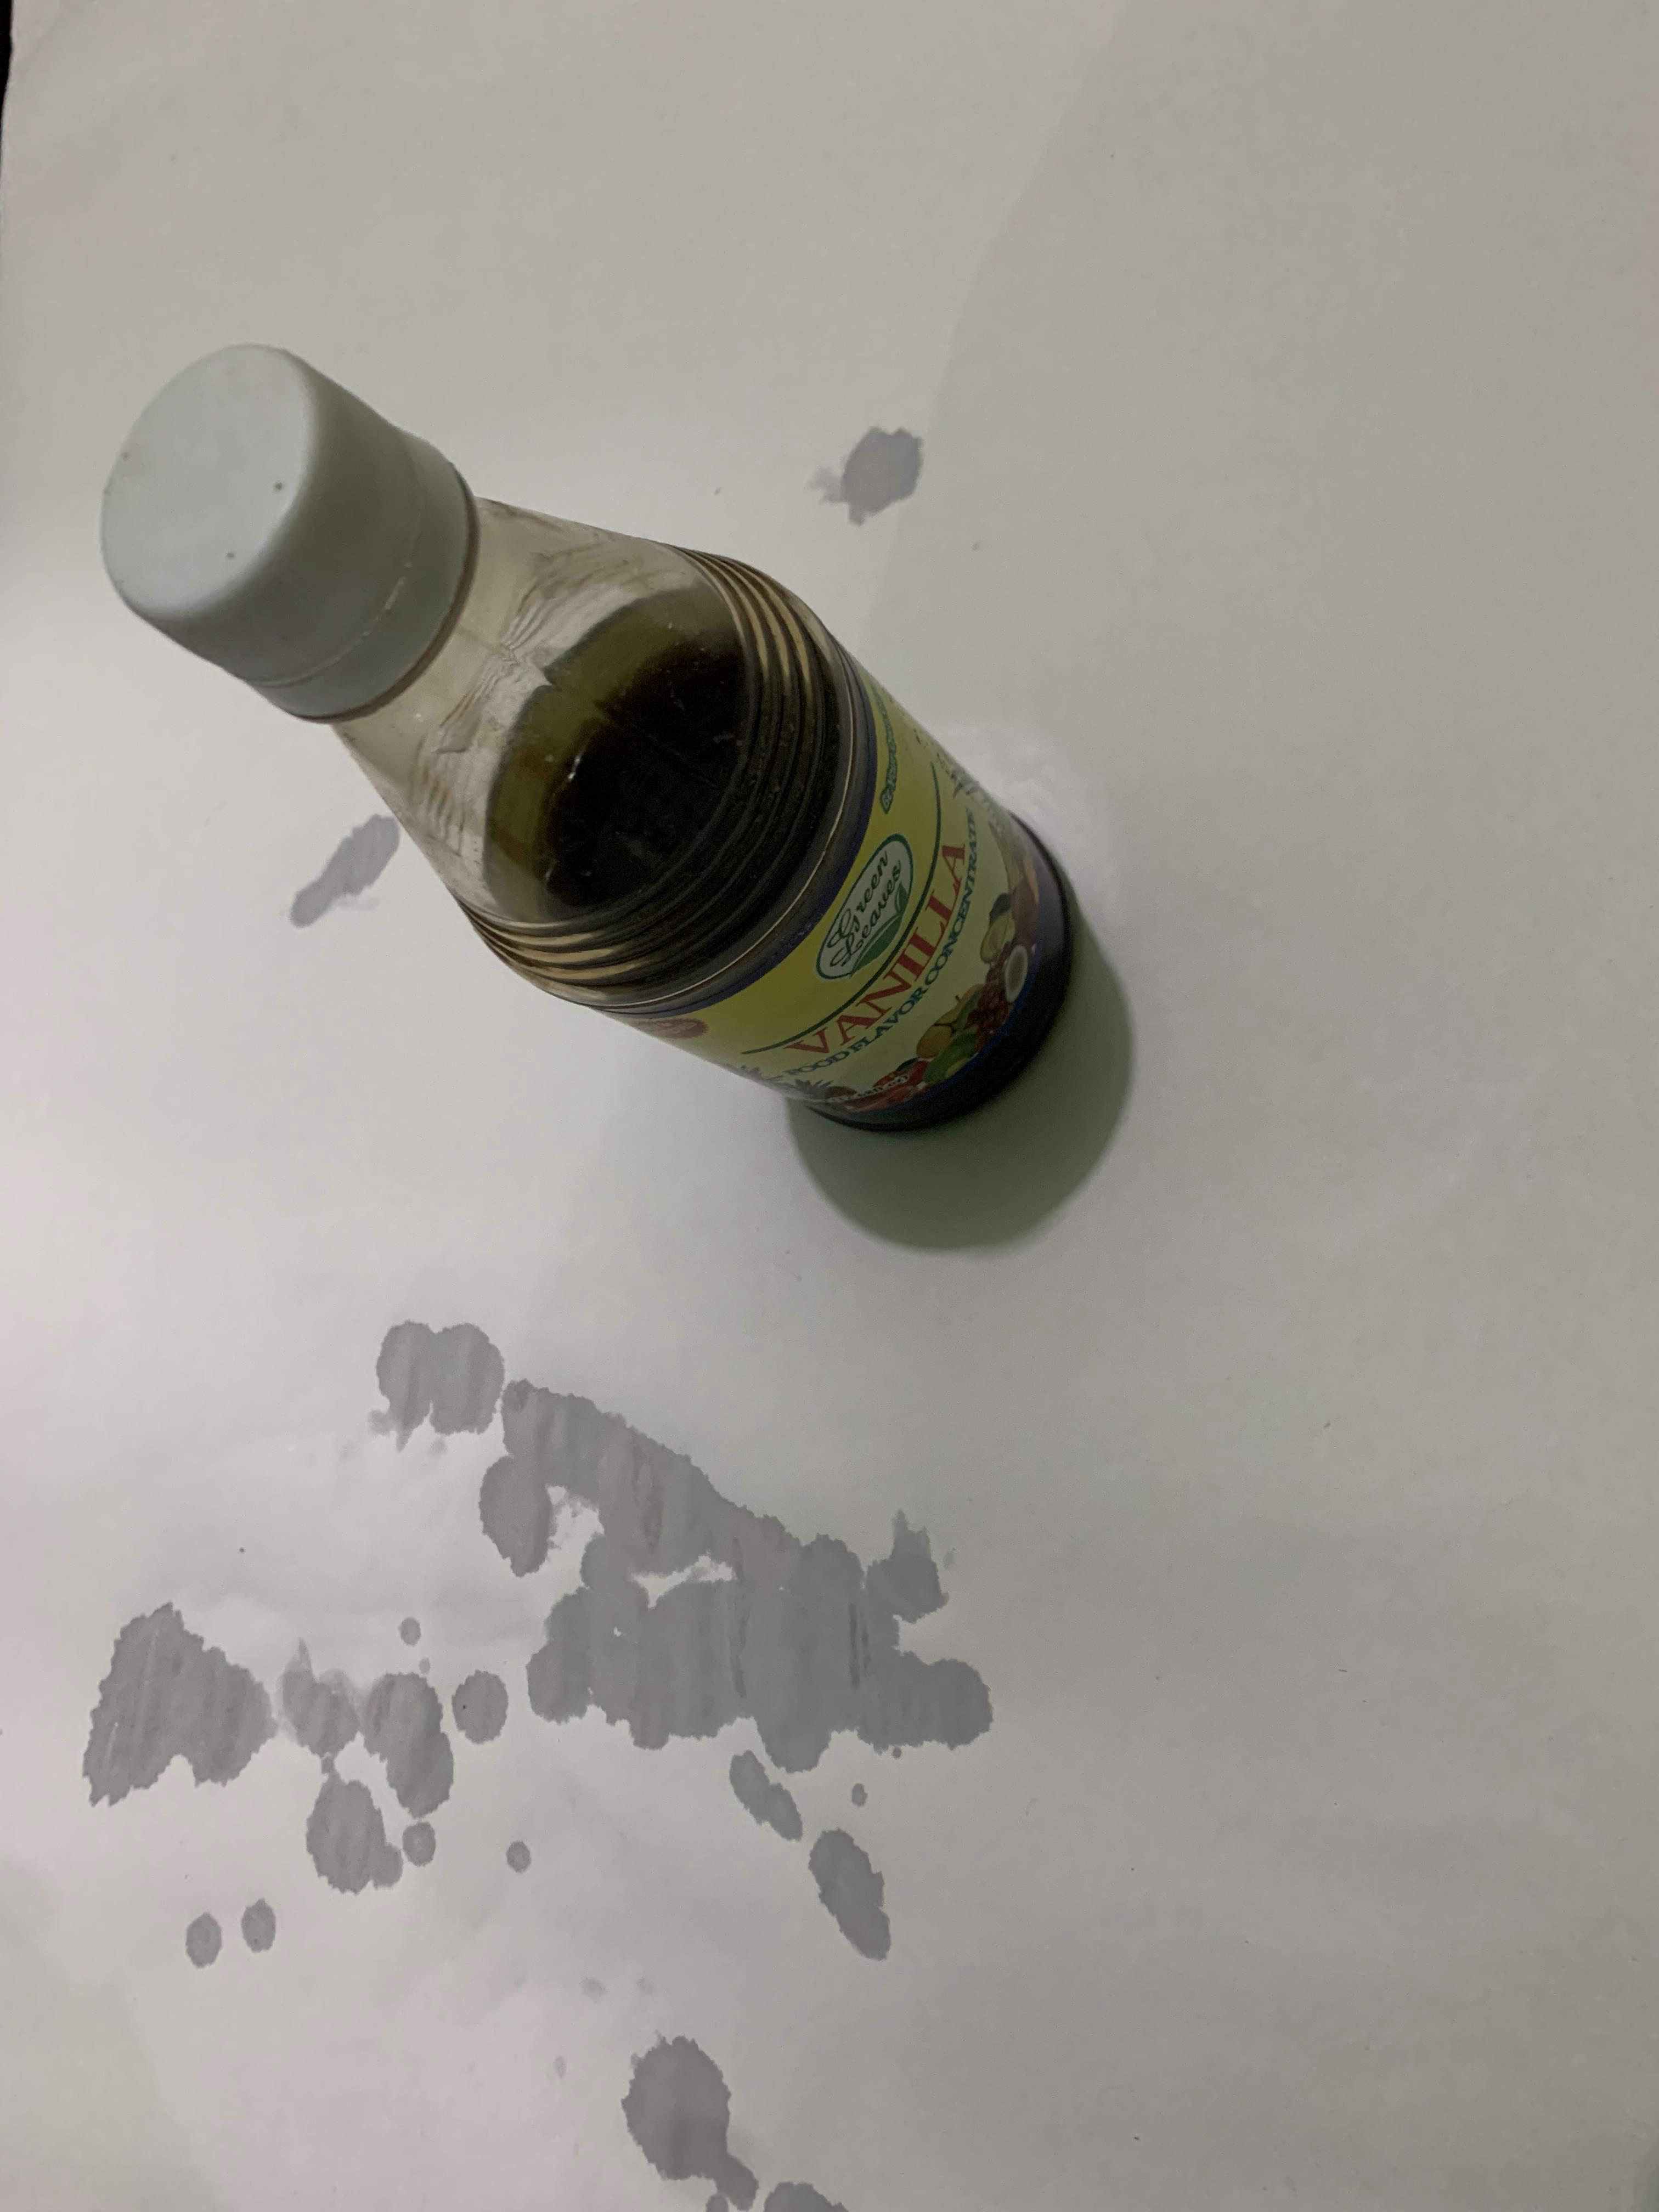bottle: (0, 329, 997, 1144)
